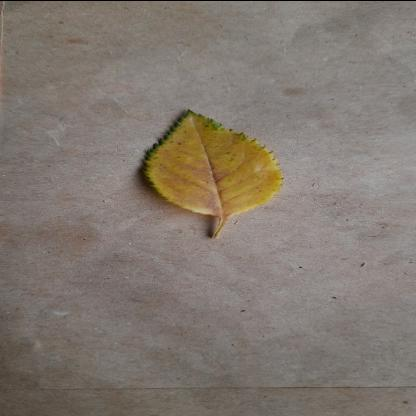black-spot: (142, 109, 286, 217)
